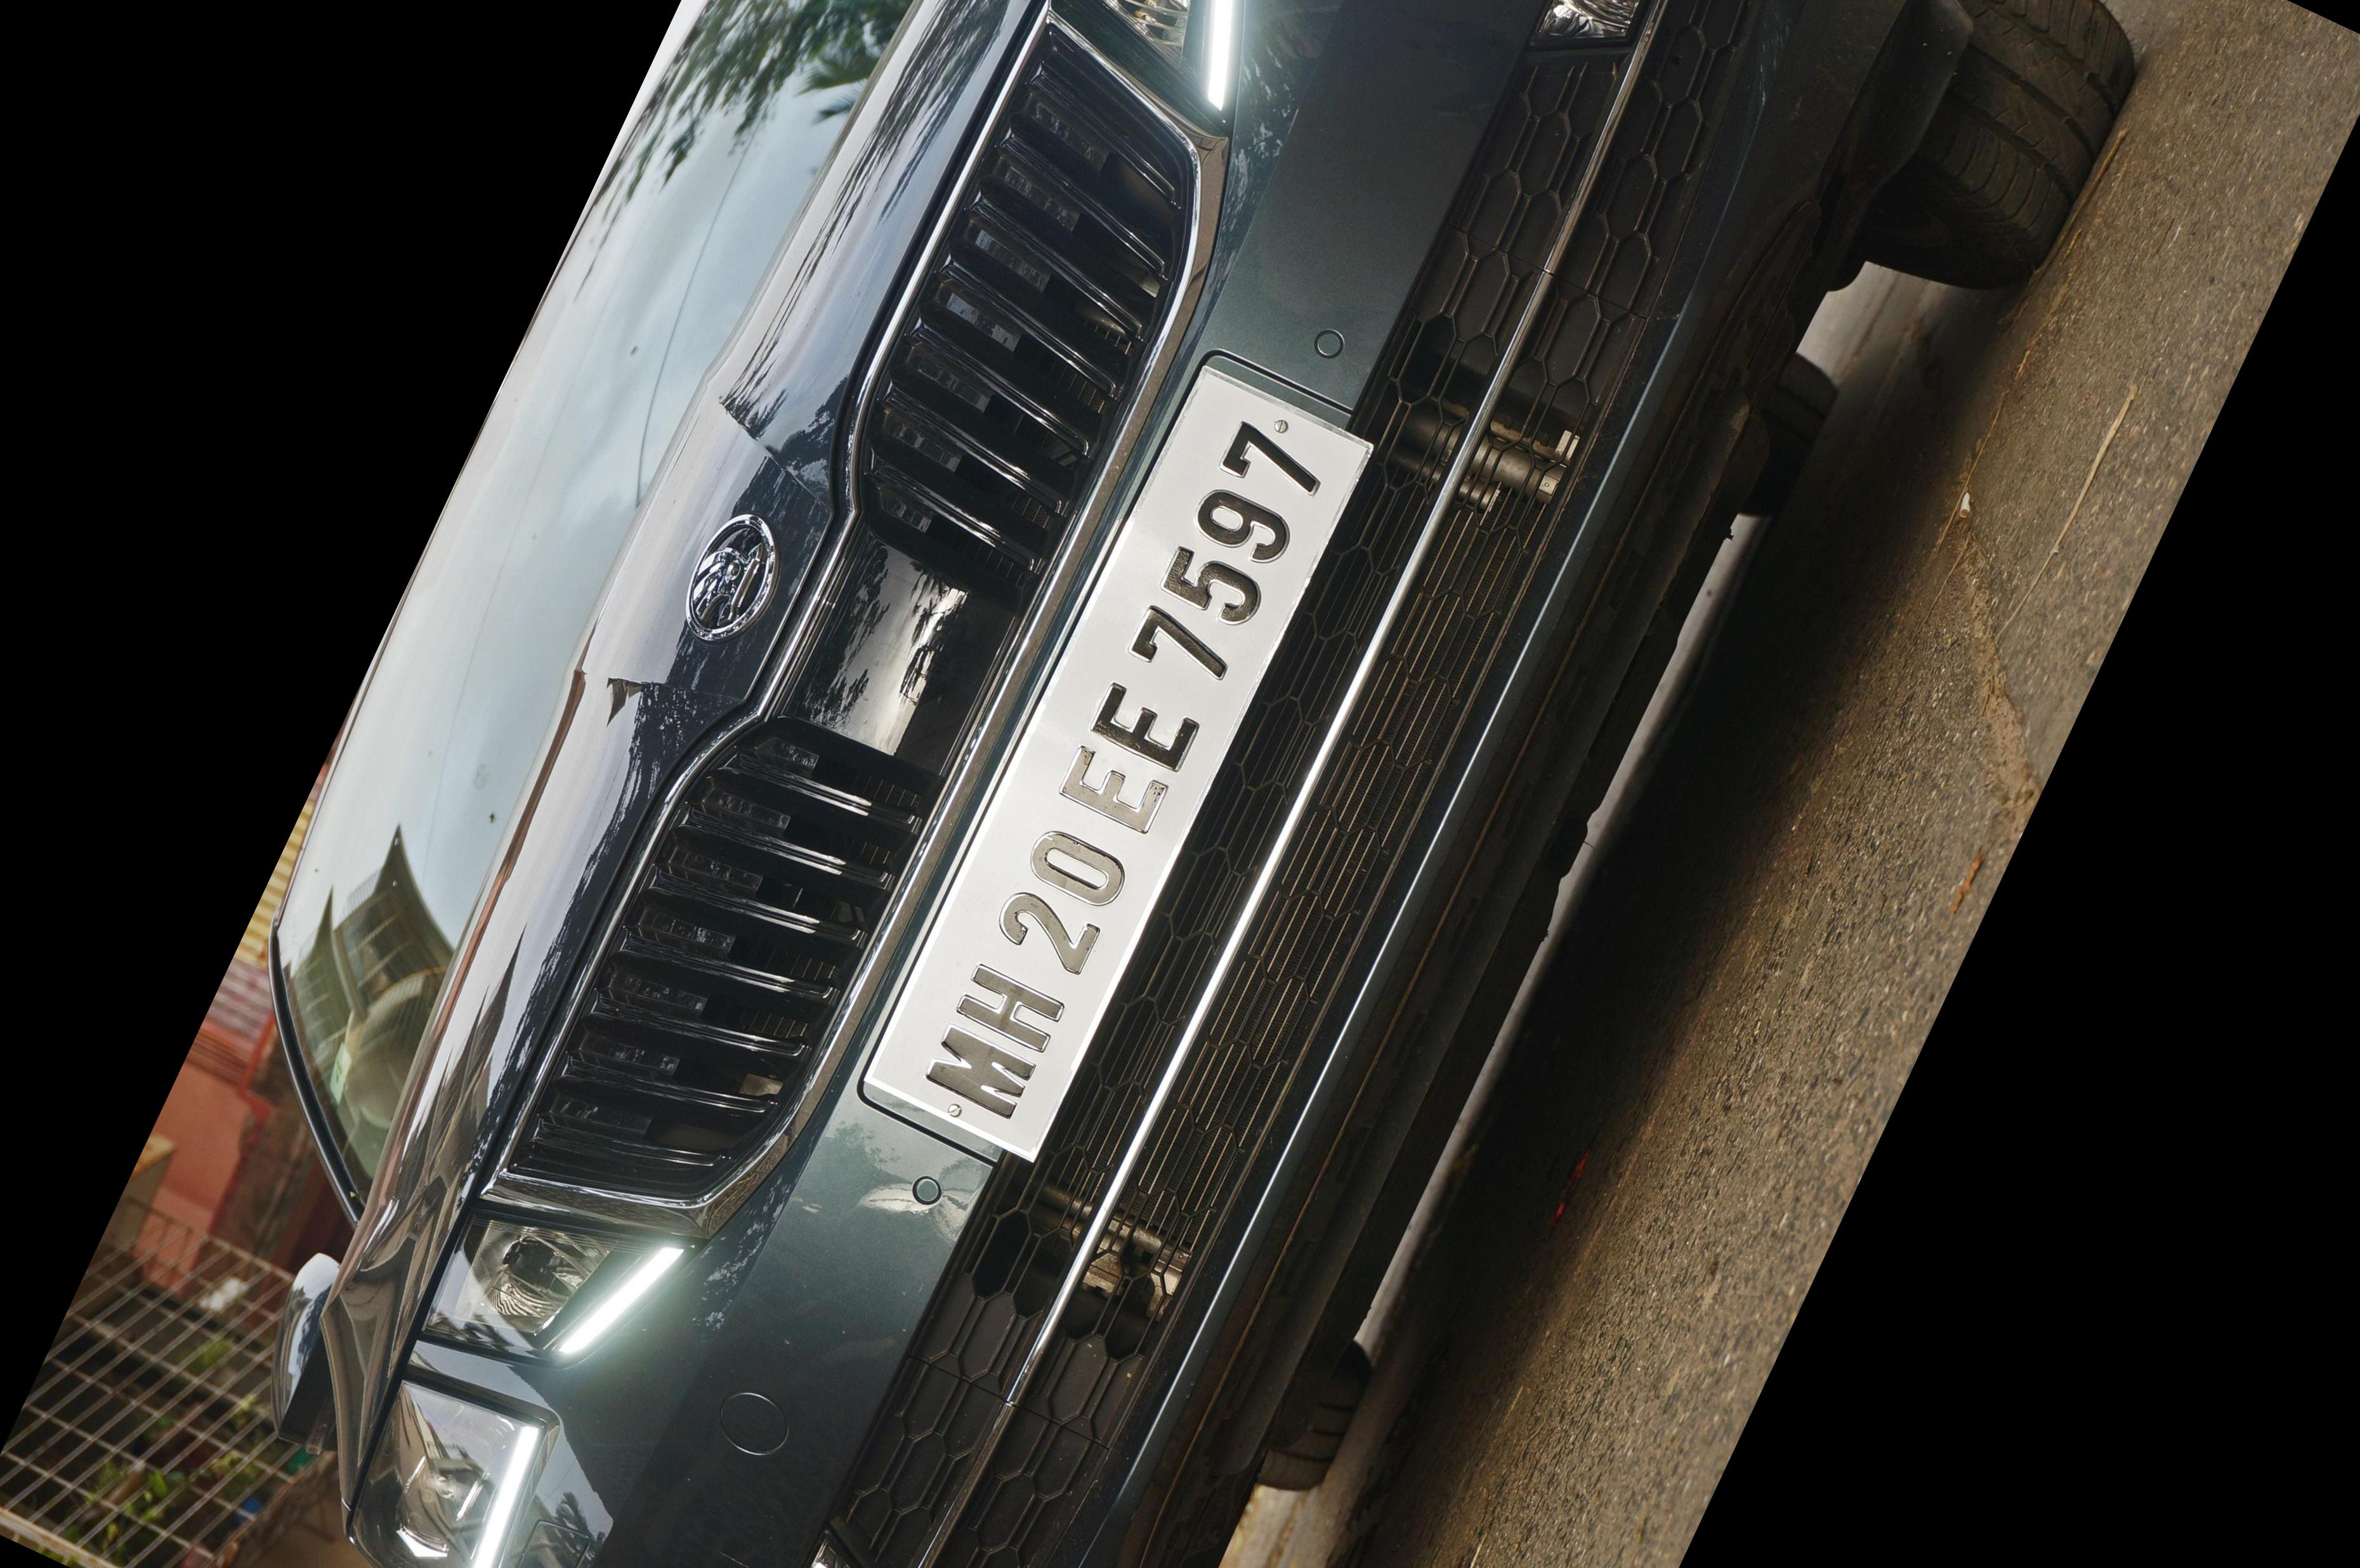plate: (844, 352, 1417, 1203)
